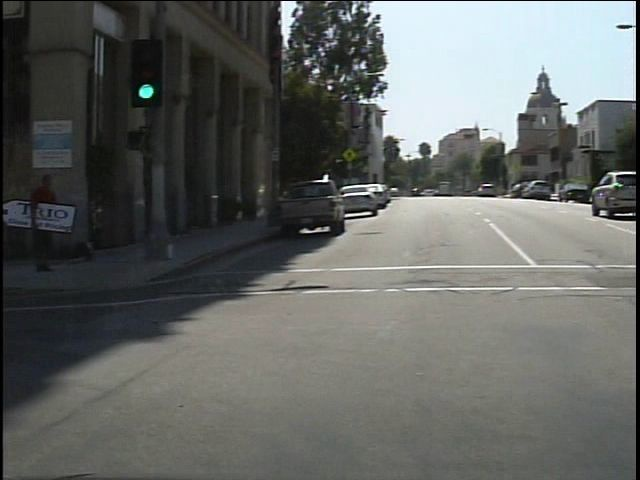person: (22, 161, 70, 281)
